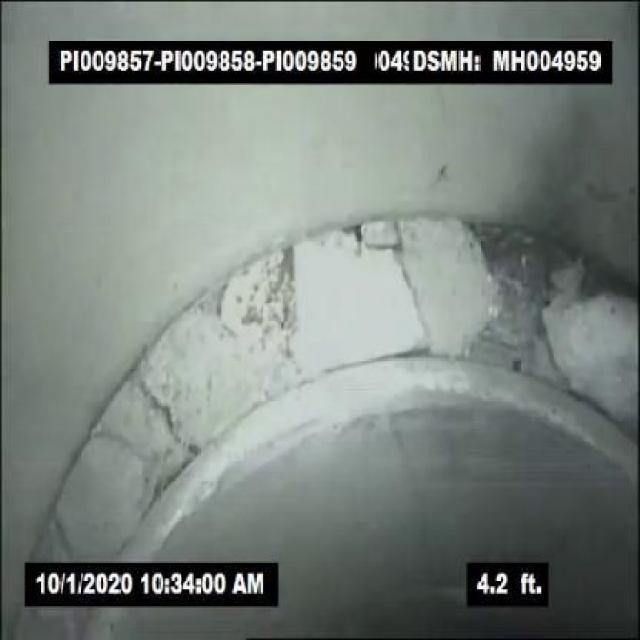Joint offset: (201, 204, 637, 462), (21, 302, 197, 556)
